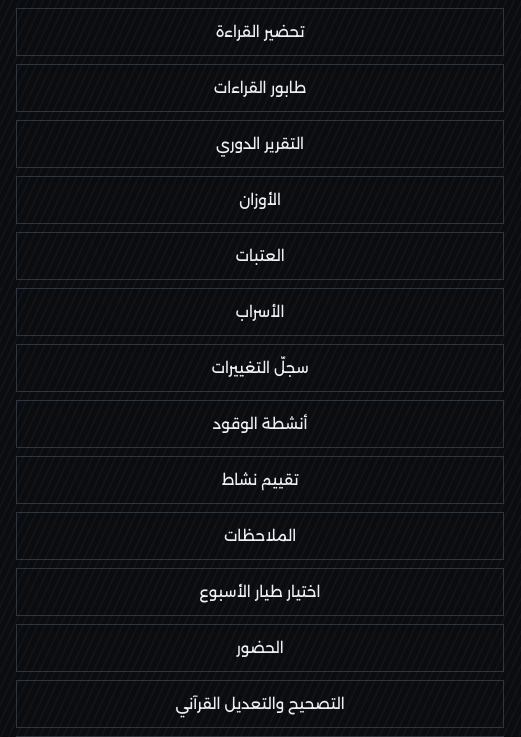
Test case: نافذة المشرف — و-٧ › سجلّ التغييرات: صفٌّ حقيقي يعرض الفاعل والملخّص
The width and height of the screenshot is (521, 737).
(page scrolled)
Click the button "سجلّ التغييرات" at (260, 368), box [16,344,504,392]
(page scrolled)
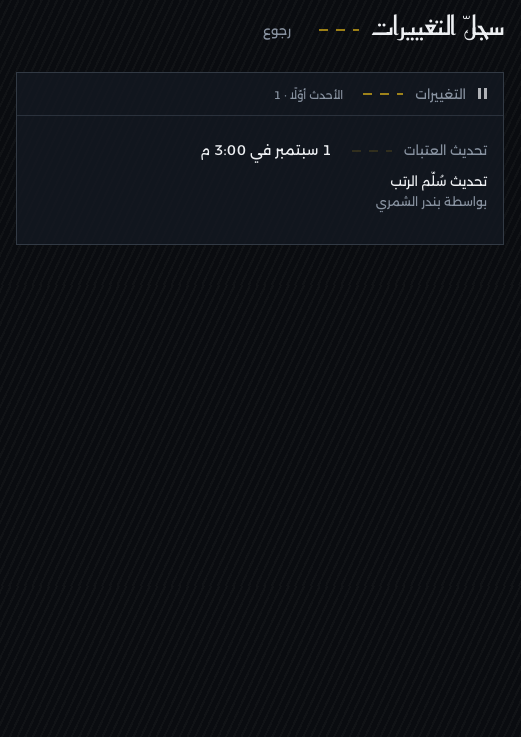
Check: the text "تحديث سُلّم الرتب" is shown, box [390,173,487,189]
Check: the text "بواسطة بندر الشمري" is shown, box [376,194,487,209]
